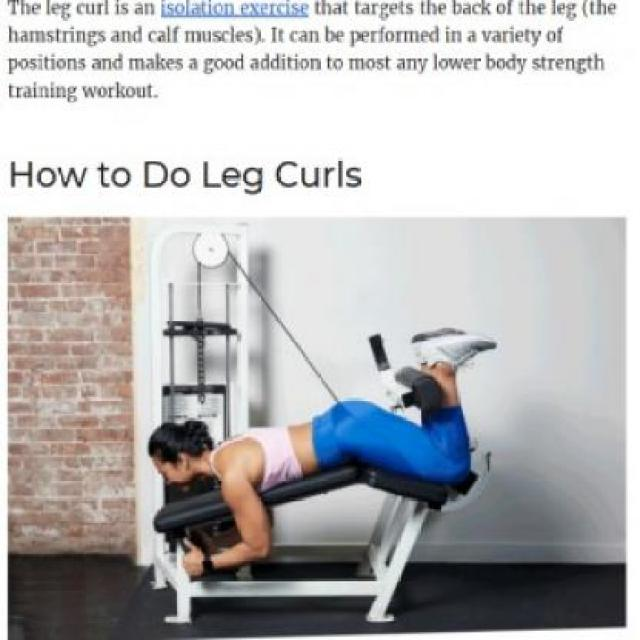reg curl machine: (125, 225, 512, 629)
